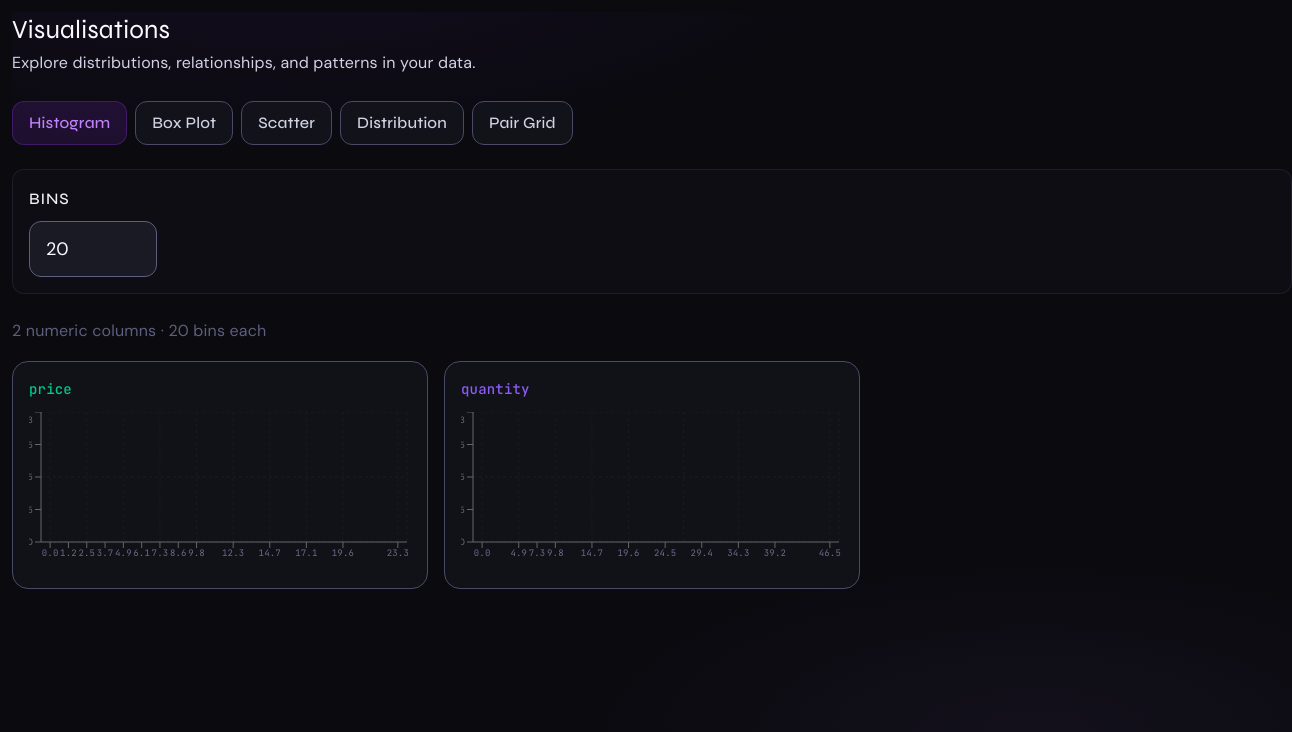
Test: PlotsSection — Histogram zoom modal › opens modal for the correct column when quantity card is clicked
Click the text "quantity" at (652, 475), box [444,360,860,589]
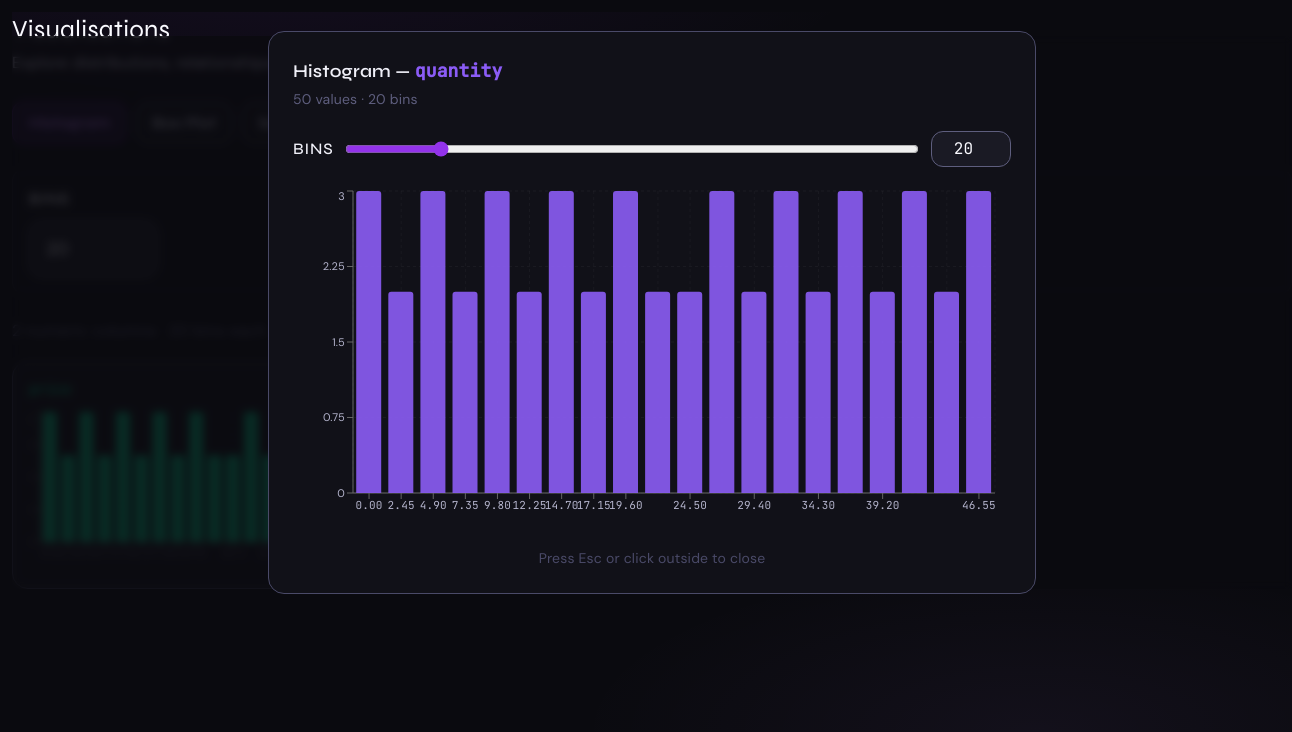
Now the text "50 values · 20 bins" is shown, box [293,90,418,108]
